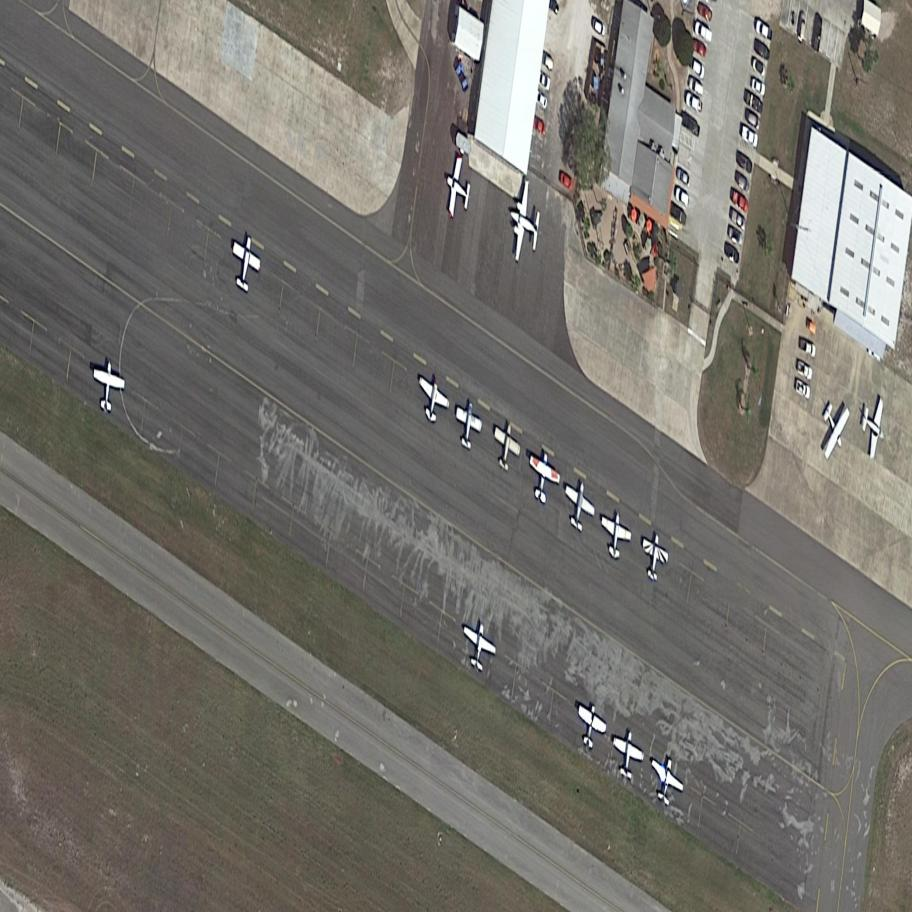plane: (802, 382, 866, 468), (504, 171, 545, 277), (855, 385, 893, 470), (557, 469, 601, 541), (644, 746, 689, 815), (440, 146, 476, 231), (226, 226, 265, 300), (457, 614, 501, 679), (412, 366, 454, 434), (524, 444, 565, 512), (607, 723, 648, 788), (487, 414, 525, 482), (572, 696, 611, 757), (597, 505, 635, 567), (91, 355, 126, 422), (638, 527, 671, 589), (452, 394, 485, 454)
small-vehicle: (675, 110, 707, 139), (688, 18, 719, 47), (739, 88, 770, 117), (749, 17, 779, 45), (683, 55, 712, 83), (730, 150, 760, 177), (721, 222, 751, 249), (735, 124, 765, 150), (718, 241, 746, 268), (725, 188, 754, 214), (729, 170, 757, 196), (531, 67, 557, 94), (745, 54, 772, 80), (664, 202, 692, 227), (789, 378, 817, 403), (726, 208, 752, 233), (683, 74, 710, 98), (681, 91, 708, 115), (748, 37, 775, 61), (793, 337, 821, 360), (740, 109, 767, 132), (670, 186, 695, 210), (670, 165, 695, 189), (687, 37, 712, 61), (792, 360, 818, 383), (535, 49, 559, 73), (527, 115, 552, 138), (587, 16, 611, 39), (555, 170, 579, 193), (692, 2, 717, 24), (746, 77, 771, 99), (530, 87, 553, 110), (812, 14, 824, 54), (796, 11, 808, 44)
